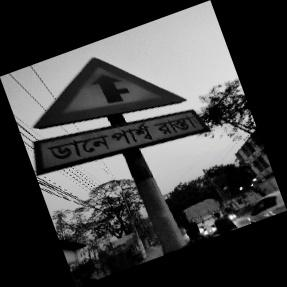Side-road-right: (23, 53, 216, 175)
